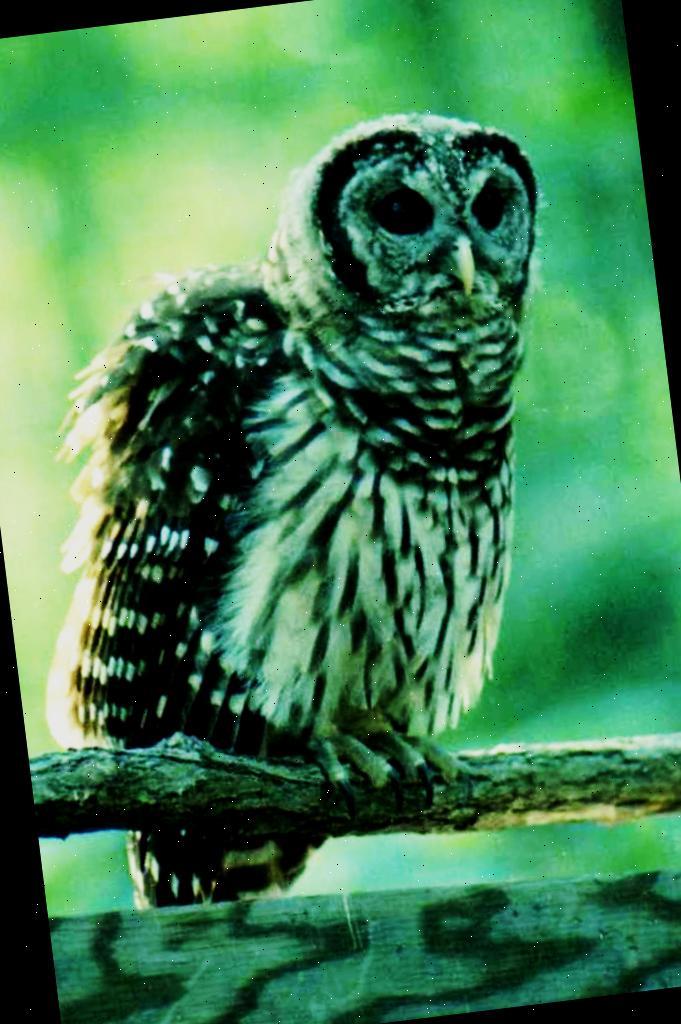Owl: (0, 93, 623, 917)
